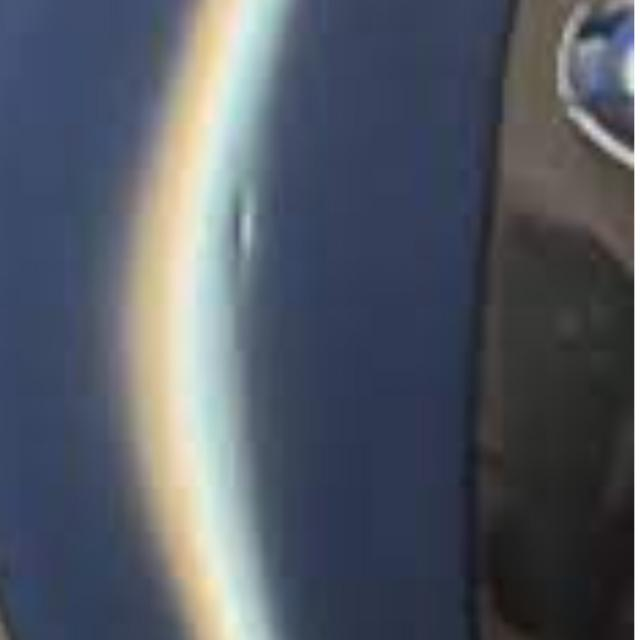dents: (216, 186, 292, 322)
